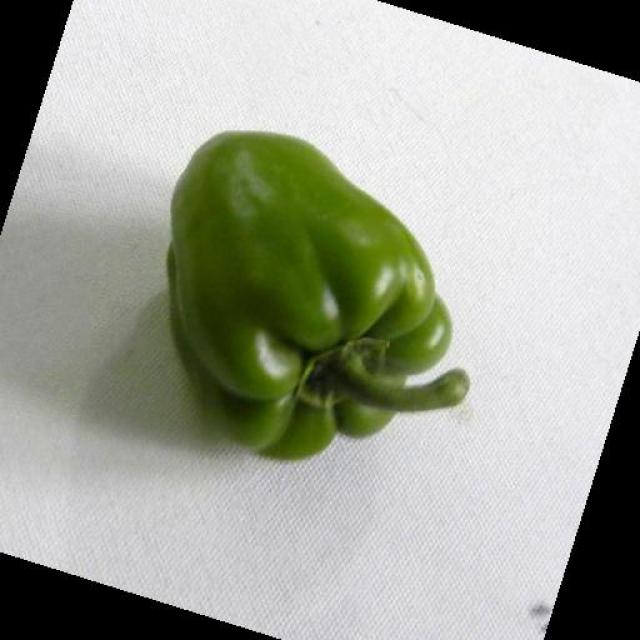Fresh_Capsicum: (140, 94, 462, 460)
